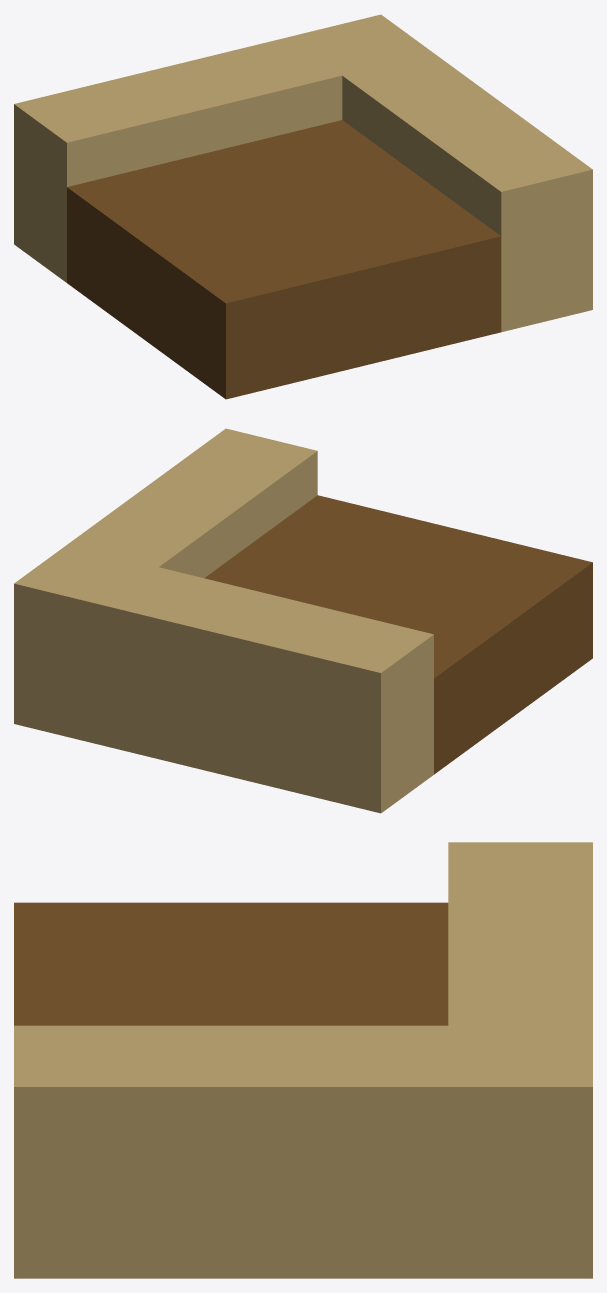
The model's file is planter-box_corner_outside.fbx.
3 renders of one model, top to bottom at view 1: azimuth 30°, elevation 25°; view 2: azimuth 150°, elevation 25°; view 3: azimuth 270°, elevation 25°, orthographic. The views are drawn at different scales.
Parts seen in each view (by area): view 1: pCube1; view 2: pCube1; view 3: pCube1.
Boxes of the visible parts, <box> form: pCube1: <box>14,14,592,399</box>; pCube1: <box>14,428,592,813</box>; pCube1: <box>14,842,592,1278</box>.
Bounding box in the file's own units: 200 × 73.08 × 200.
